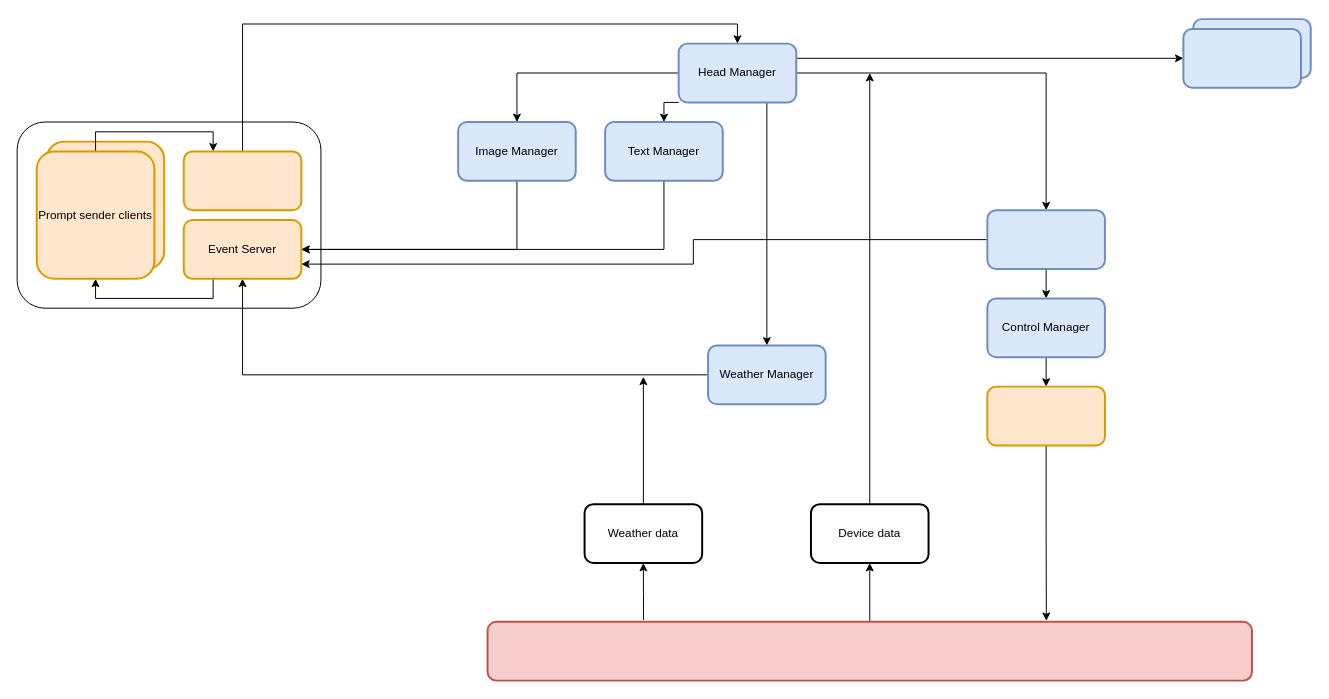
Some shapes in this 1329 by 699 pixel diagram are drawn without their labels. Here are the shapes that lost their labels. From the top down, the box of each, then its label:
(1182, 27, 1301, 88): Add-on
(182, 150, 302, 211): Command Server
(986, 209, 1105, 270): Device Manager
(986, 385, 1105, 446): Control Command Server
(486, 620, 1252, 681): Home Assistant API
